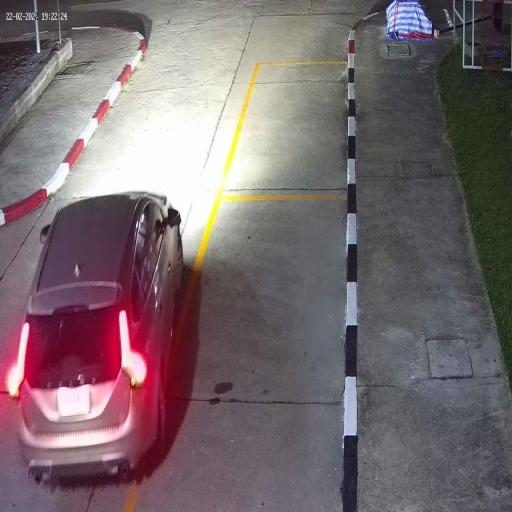car: (12, 191, 186, 481)
